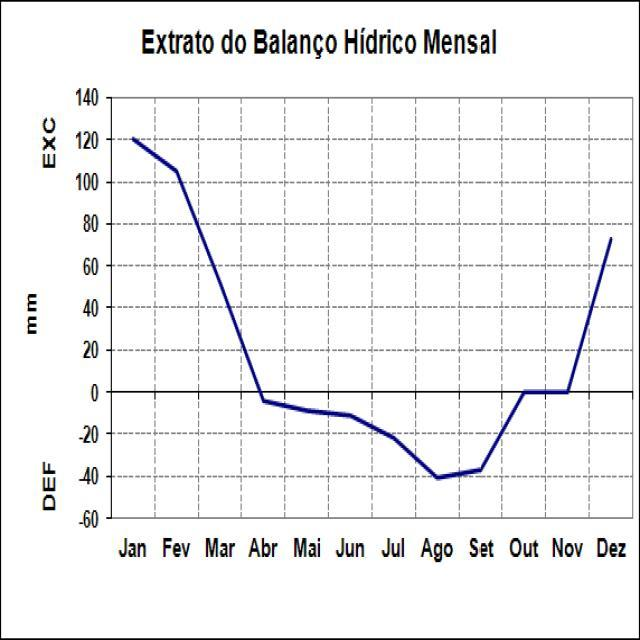axis: (103, 508, 638, 525), (99, 87, 119, 524)
line: (129, 134, 617, 485)
